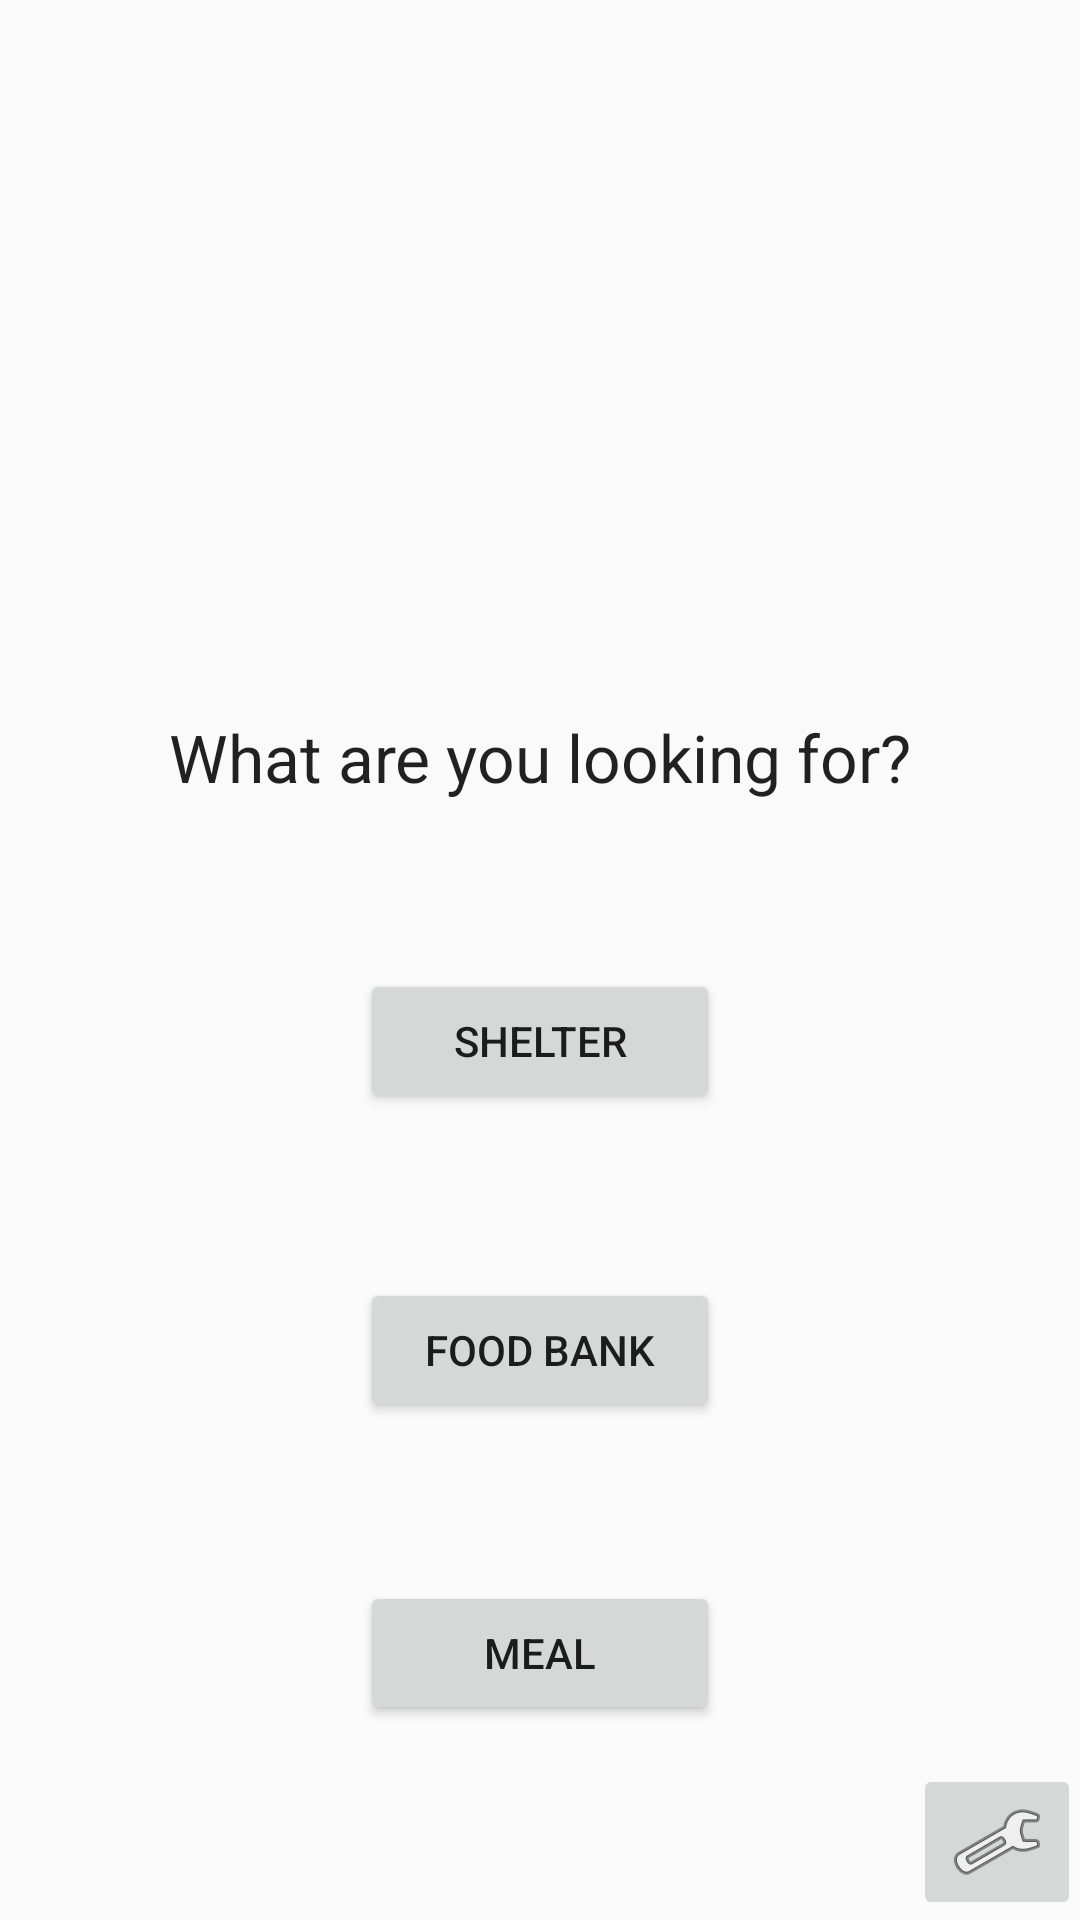

Where to tap for icons on this 1080w x 1920h app screen, as [x,y]:
preferences: [997,1842]
